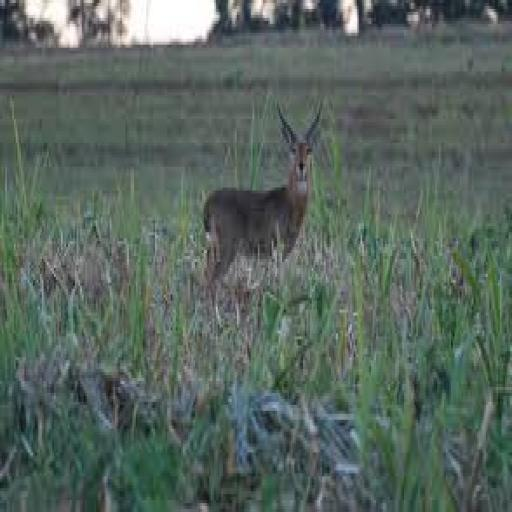antelope: (167, 74, 360, 332)
